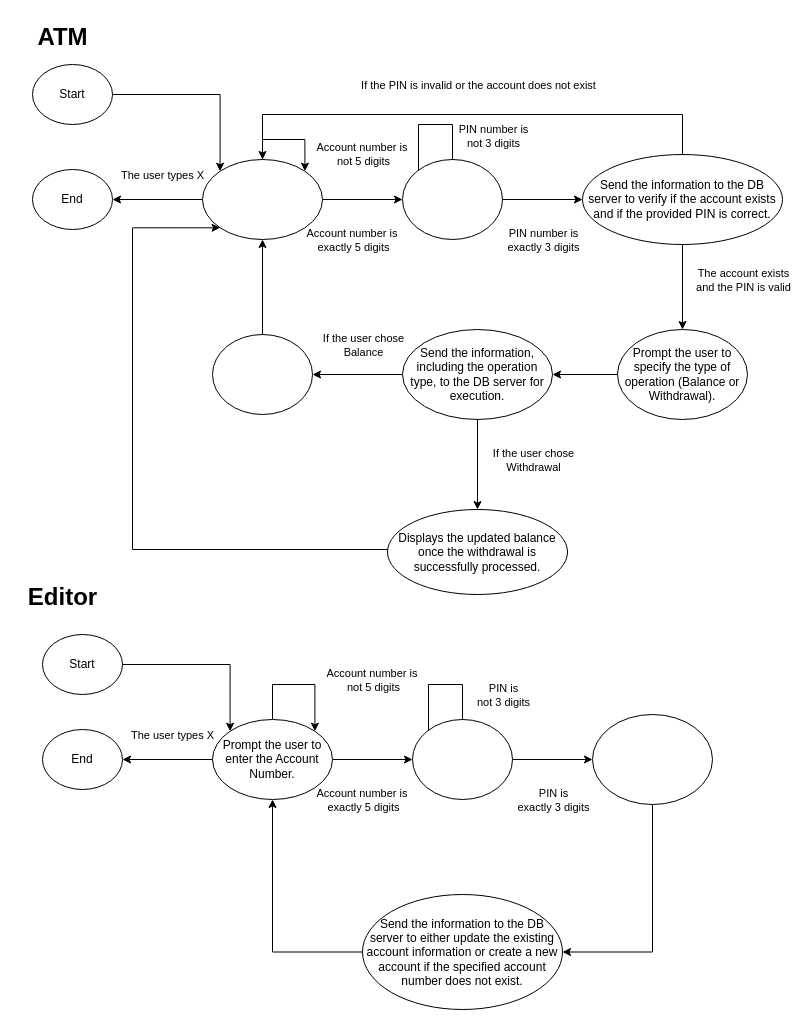
Some shapes in this 807 by 1027 pixel diagram are drawn without their labels. The shapes that lost their labels are listed below. From the top down, each one's centre as x and y in pixels, then its label:
At point (262, 199): "Prompt the user to enter their Account Number.".
At point (452, 199): "Prompt the user to enter their PIN.".
At point (262, 374): "Displays the balance of the account".
At point (462, 759): "Prompt the user to enter the PIN.".
At point (652, 759): "Prompt the user to enter the funds.".
